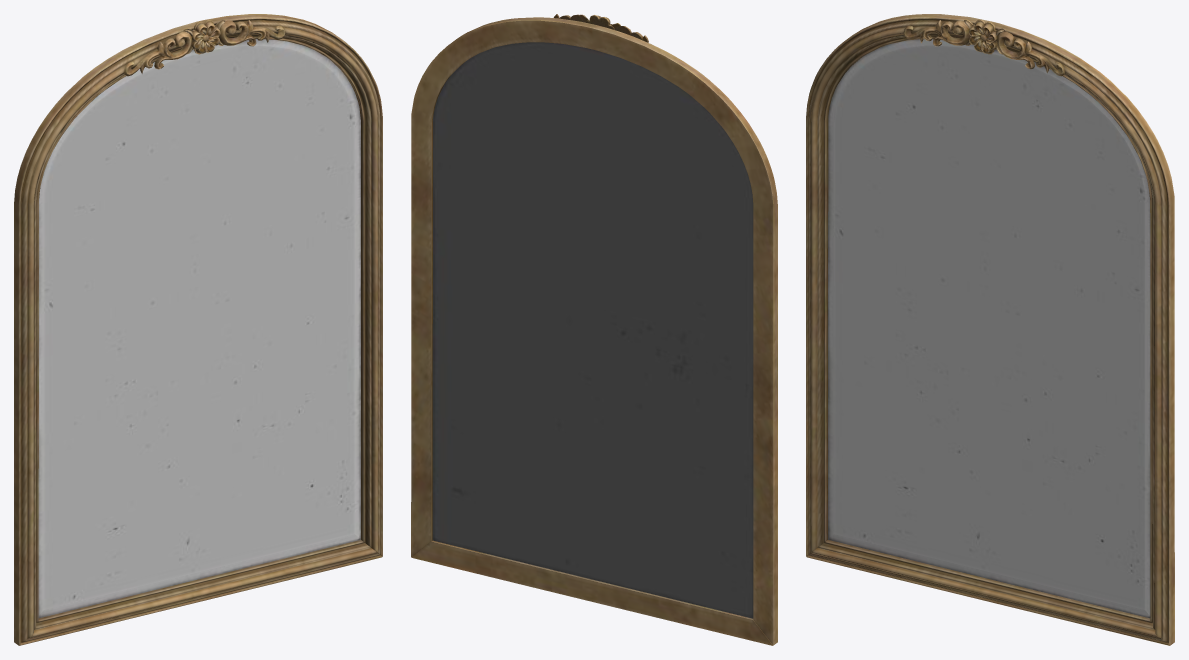
The model's file is ornate_mirror_01.glb.
The picture shows the model from 3 angles, left to right: view 1: azimuth 30°, elevation 25°; view 2: azimuth 150°, elevation 25°; view 3: azimuth 330°, elevation 25°; orthographic projection.
Parts seen in each view (by area): view 1: ornate_mirror_01; view 2: ornate_mirror_01; view 3: ornate_mirror_01.
Part boxes in pixels (<box>): ornate_mirror_01: <box>14,14,382,645</box>; ornate_mirror_01: <box>411,14,777,645</box>; ornate_mirror_01: <box>806,14,1174,645</box>.
Size of the model in its own units: 0.4865 by 0.7442 by 0.026.
1 material, 1 textured.
